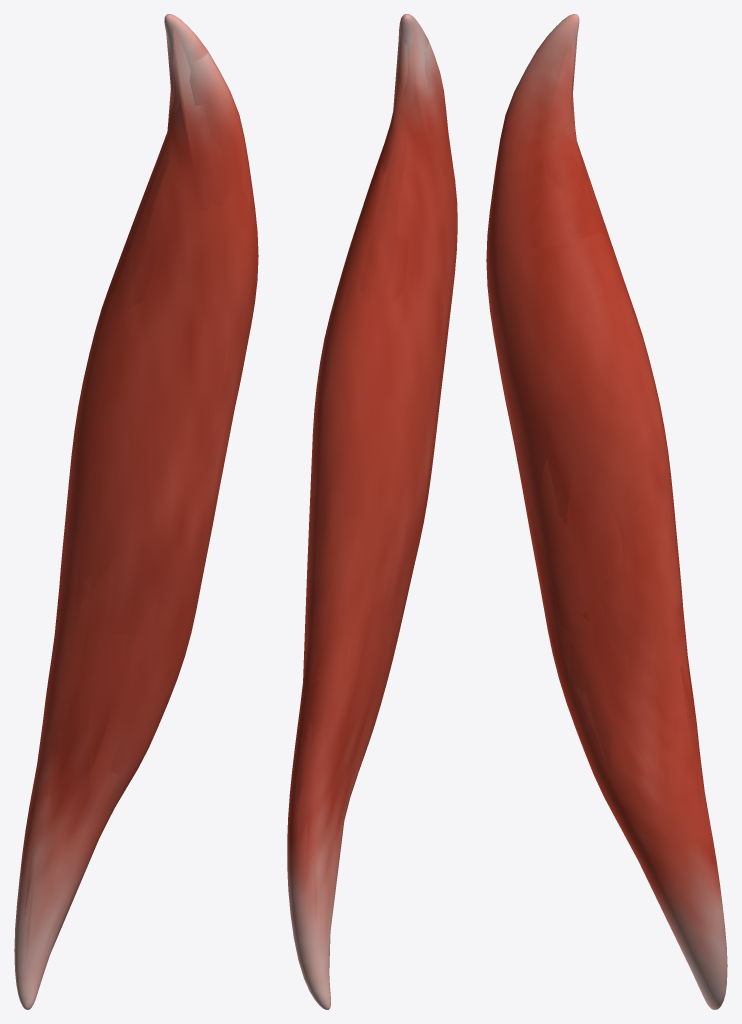
Rendered from R flexor carpi radialis.fbx.
3 renders of one model, left to right at view 1: azimuth 90°, elevation 25°; view 2: azimuth 150°, elevation 25°; view 3: azimuth 270°, elevation 25°, orthographic. The views are drawn at different scales.
Visible parts, largest first — view 1: R flexor carpi radialis, R flexor carpi radialis low; view 2: R flexor carpi radialis, R flexor carpi radialis low; view 3: R flexor carpi radialis, R flexor carpi radialis low.
Part boxes in pixels (x1,y1,x2,y2): R flexor carpi radialis: (14, 14, 258, 1009); R flexor carpi radialis low: (24, 29, 254, 987); R flexor carpi radialis: (287, 14, 457, 1009); R flexor carpi radialis low: (291, 26, 452, 983); R flexor carpi radialis: (486, 14, 727, 1009); R flexor carpi radialis low: (491, 33, 707, 970).
Size of the model in its own units: 4.58 by 46.2 by 10.21.
